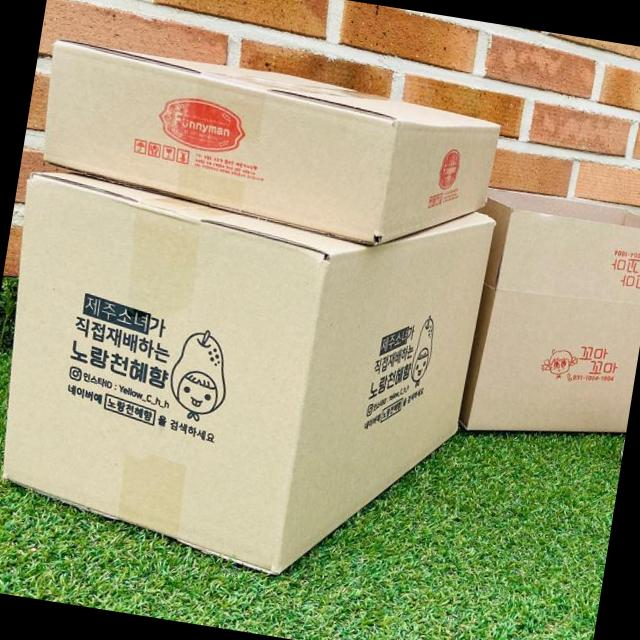box: (3, 171, 497, 575), (42, 38, 502, 248), (458, 182, 639, 434)
